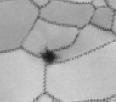good_void: (40, 47, 60, 65)
